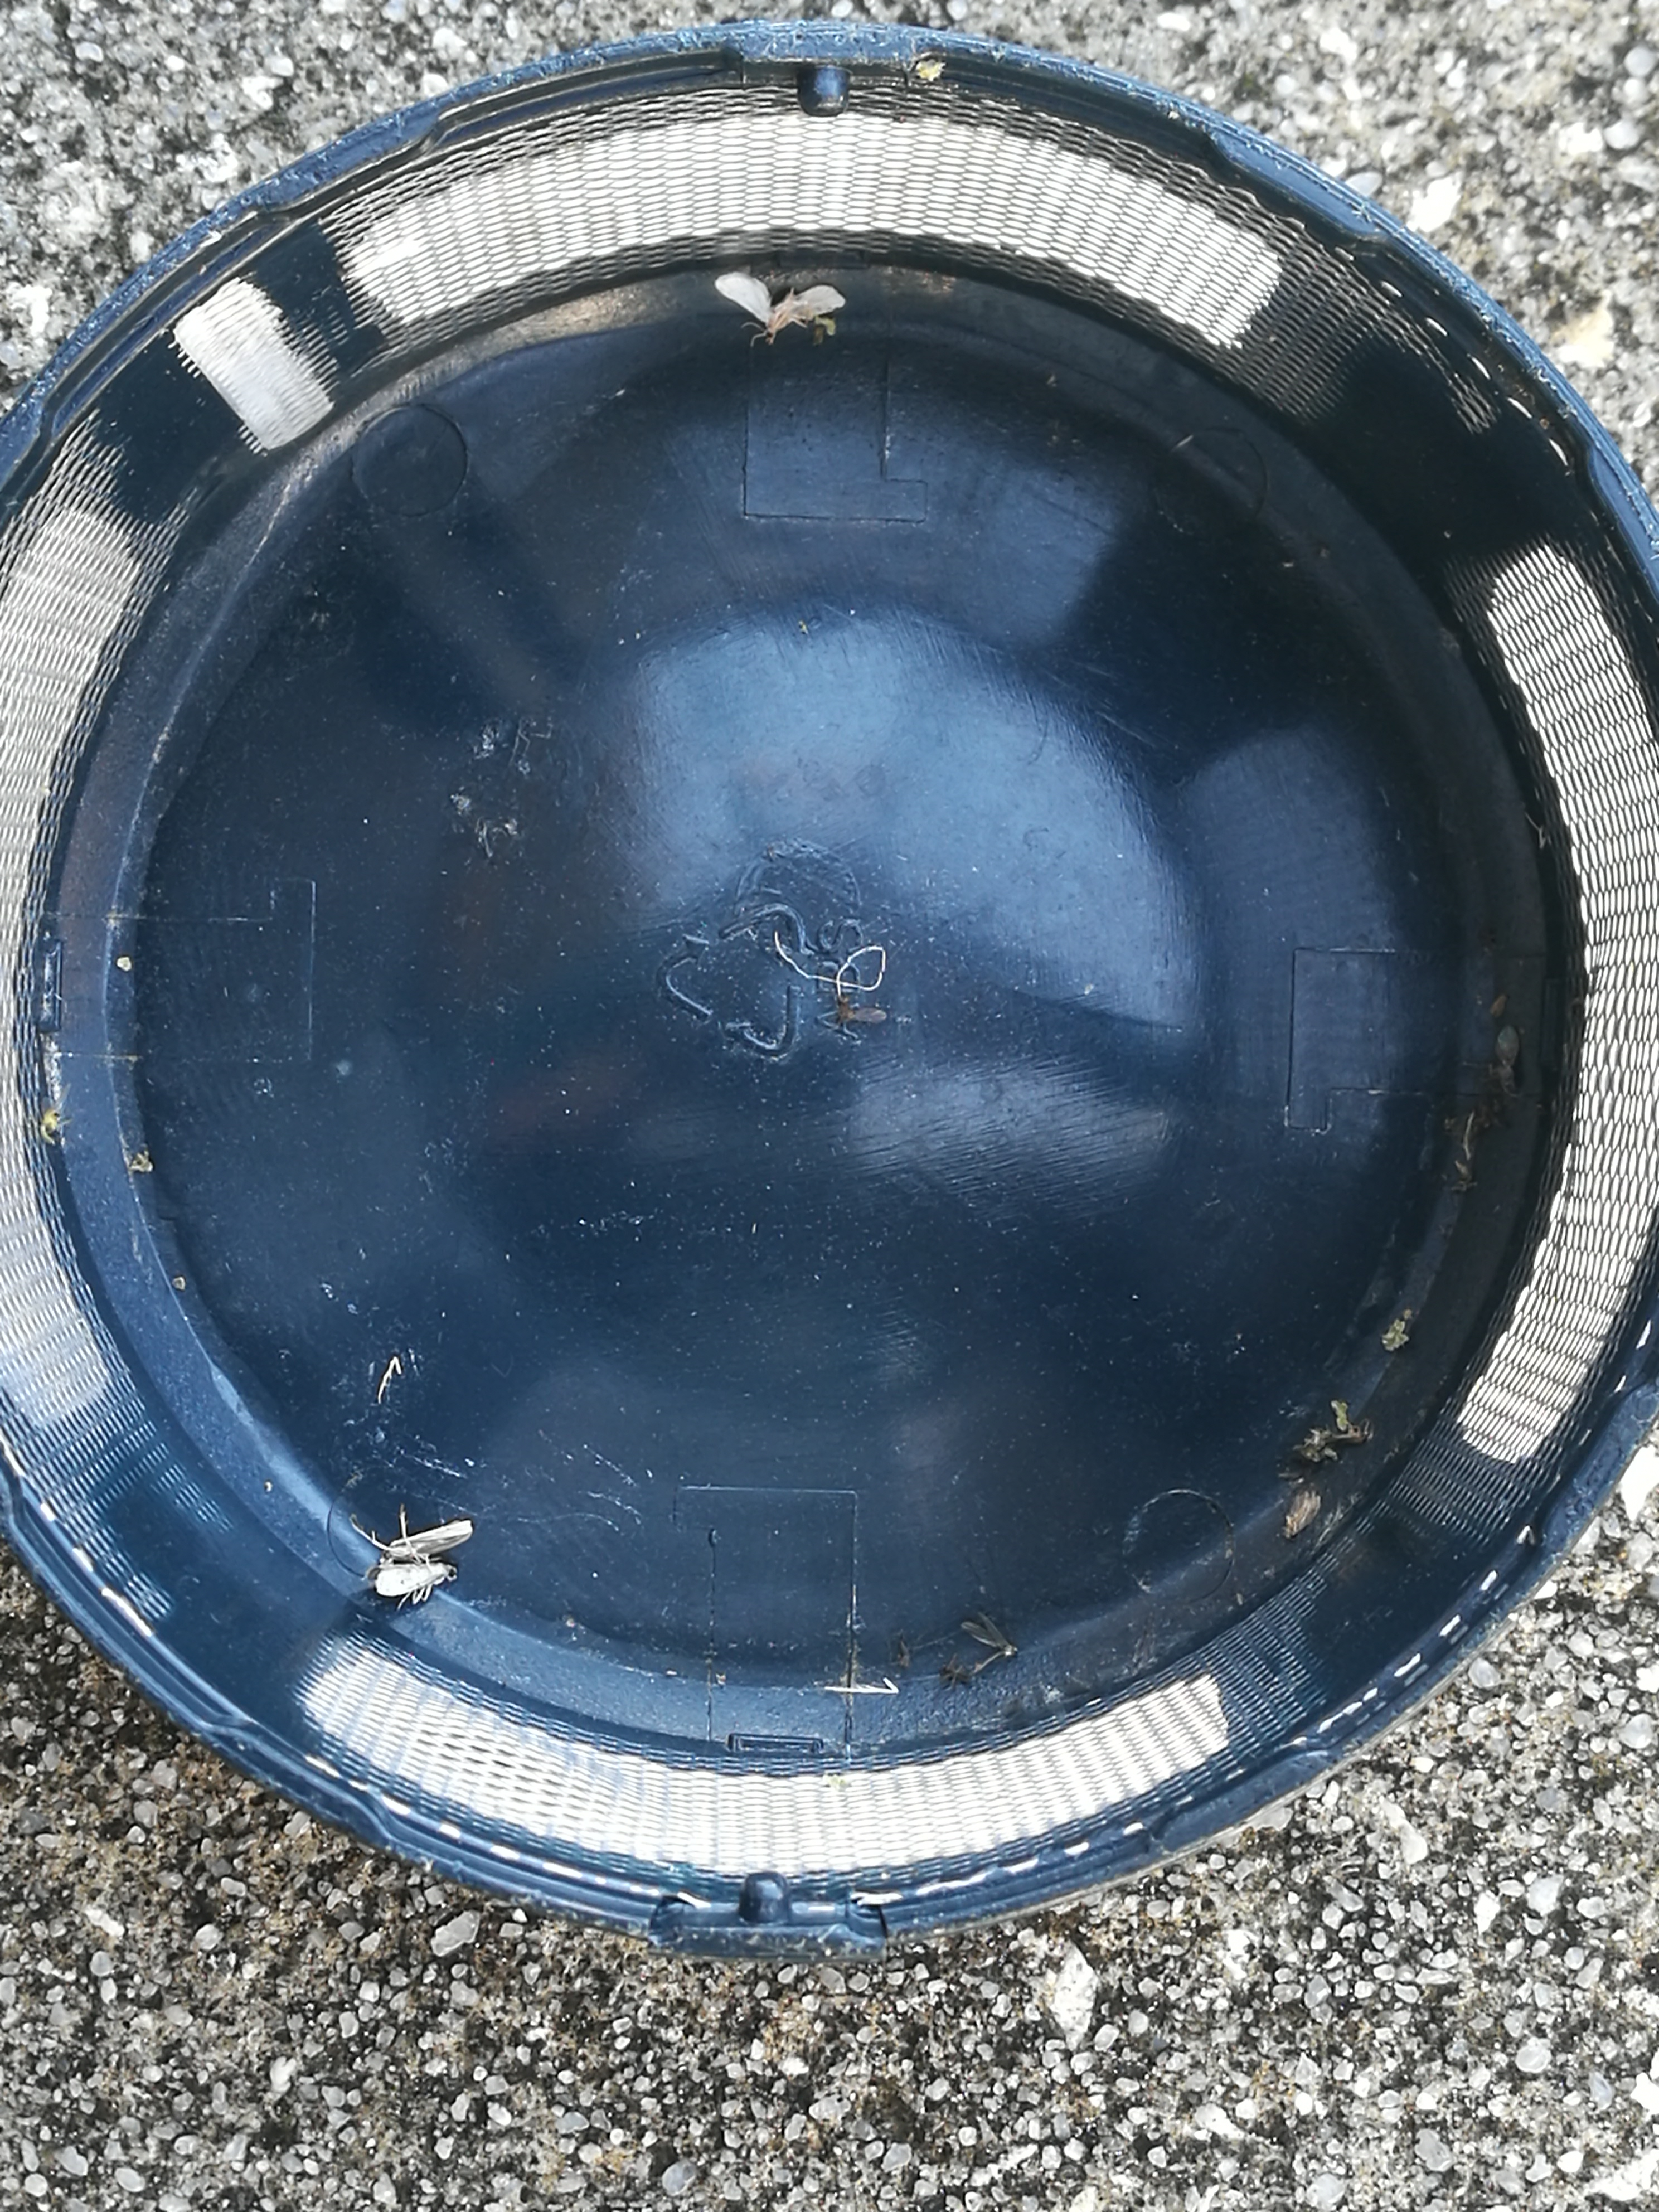mosquito: (383, 1519, 472, 1561)
moth: (716, 273, 845, 343), (376, 1566, 457, 1597)
